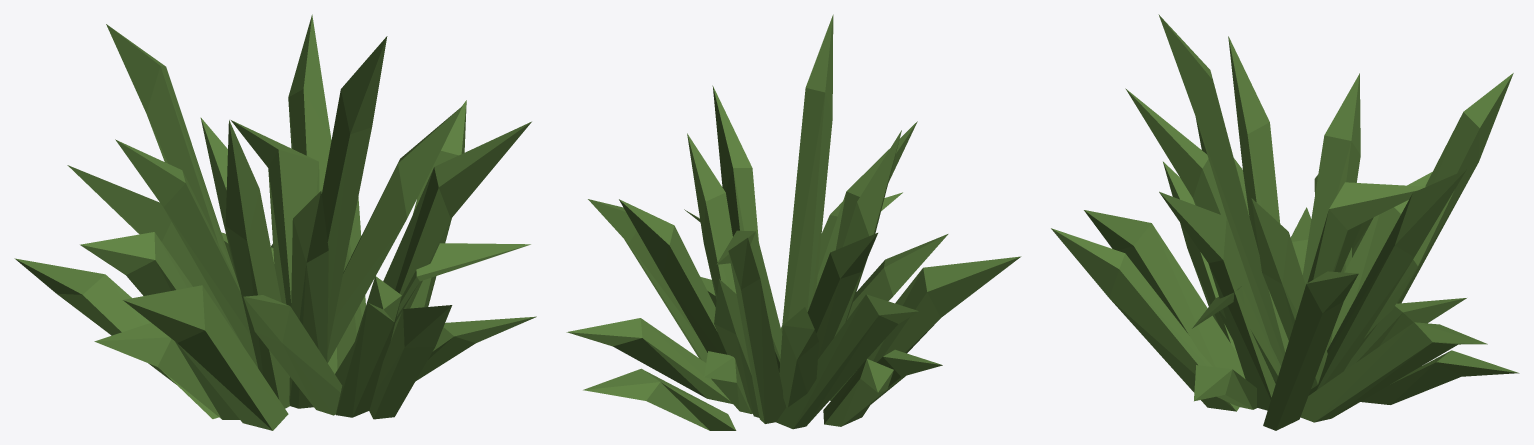
File: Plantita-2.FBX
3 views of the same model, side by side, from view 1: azimuth 30°, elevation 25°; view 2: azimuth 150°, elevation 25°; view 3: azimuth 270°, elevation 25° (orthographic). The views are drawn at different scales.
Parts seen in each view (by area): view 1: Plantita-2; view 2: Plantita-2; view 3: Plantita-2.
Part boxes in pixels (left/top/right/bottom): Plantita-2: left=14, top=14, right=536, bottom=430; Plantita-2: left=566, top=14, right=1021, bottom=430; Plantita-2: left=1051, top=14, right=1519, bottom=430.
Bounding box in the file's own units: 108 × 97.92 × 110.
Materials: 1 (1 with a texture image).
